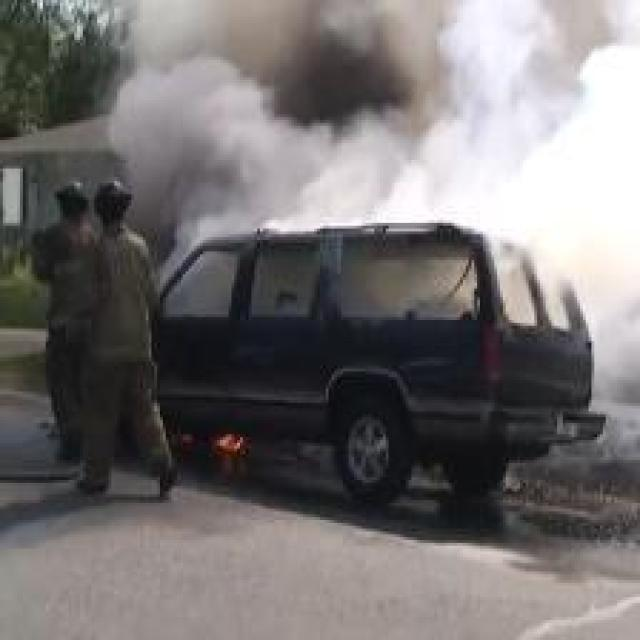smoke: (110, 2, 634, 300)
